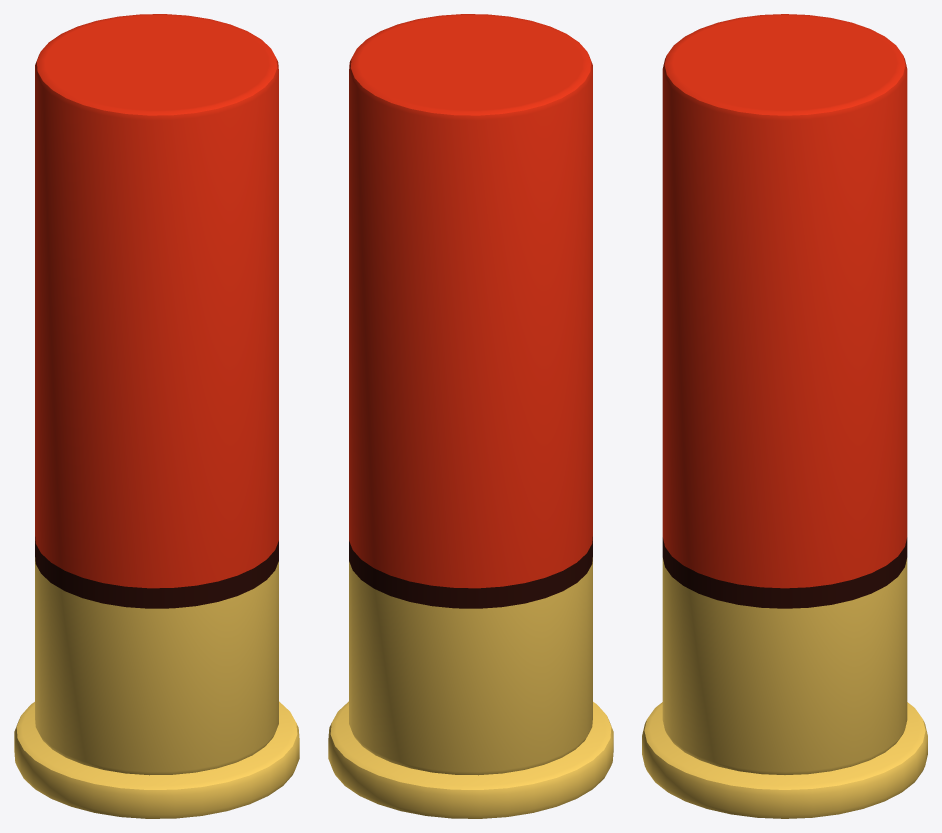
The model's file is bulletshotgun.fbx.
3 renders of one model, left to right at view 1: azimuth 30°, elevation 25°; view 2: azimuth 150°, elevation 25°; view 3: azimuth 270°, elevation 25°, orthographic.
Visible parts, largest first — view 1: Cylinder.021; view 2: Cylinder.021; view 3: Cylinder.021.
Boxes of the visible parts, x1,y1,x2,y2 form: Cylinder.021: [14, 14, 299, 818]; Cylinder.021: [328, 14, 613, 818]; Cylinder.021: [642, 14, 927, 818].
Bounding box in the file's own units: 6.46 × 17.45 × 6.46.
Materials: 1 (1 with a texture image).
